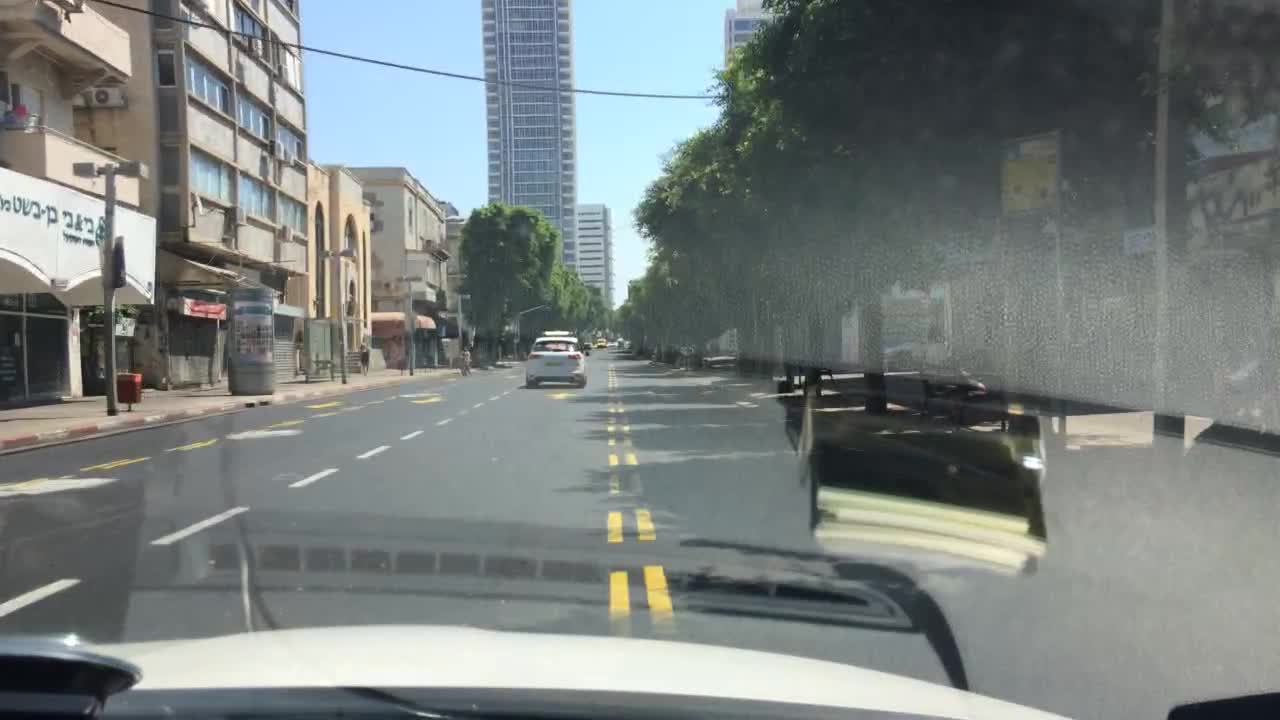car: (520, 331, 591, 392), (645, 341, 703, 372), (568, 337, 595, 361), (591, 333, 608, 350)
person: (456, 341, 478, 377), (355, 339, 373, 377)
traffic sign: (997, 130, 1068, 225), (111, 232, 129, 287), (1123, 231, 1158, 256)
